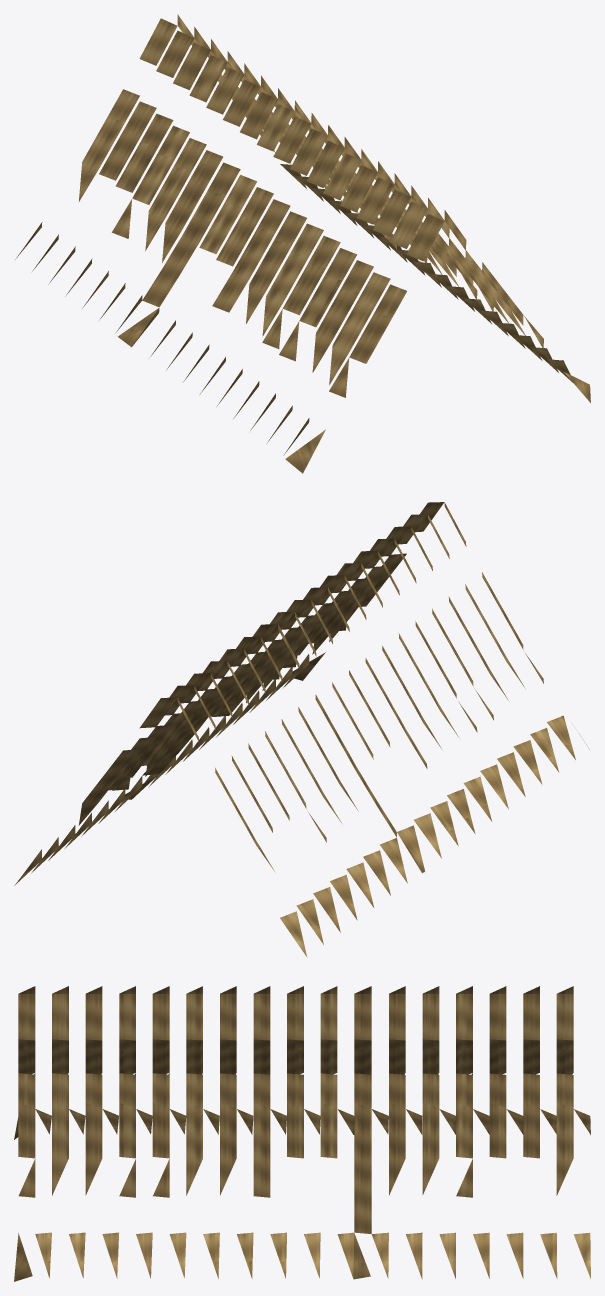
The model's file is Roof_Thatch_4x8_LOD2.gltf.
3 renders of one model, top to bottom at view 1: azimuth 30°, elevation 25°; view 2: azimuth 150°, elevation 25°; view 3: azimuth 270°, elevation 25°, orthographic.
Visible parts, largest first — view 1: Roof_Thatch_4x8_LOD2; view 2: Roof_Thatch_4x8_LOD2; view 3: Roof_Thatch_4x8_LOD2.
Boxes of the visible parts, left/top/right/bottom form: Roof_Thatch_4x8_LOD2: left=15, top=14, right=590, bottom=473; Roof_Thatch_4x8_LOD2: left=14, top=502, right=589, bottom=957; Roof_Thatch_4x8_LOD2: left=14, top=986, right=590, bottom=1281.
Bounding box in the file's own units: 5.51 × 3.79 × 8.97.
Materials: 1 (1 with a texture image).
